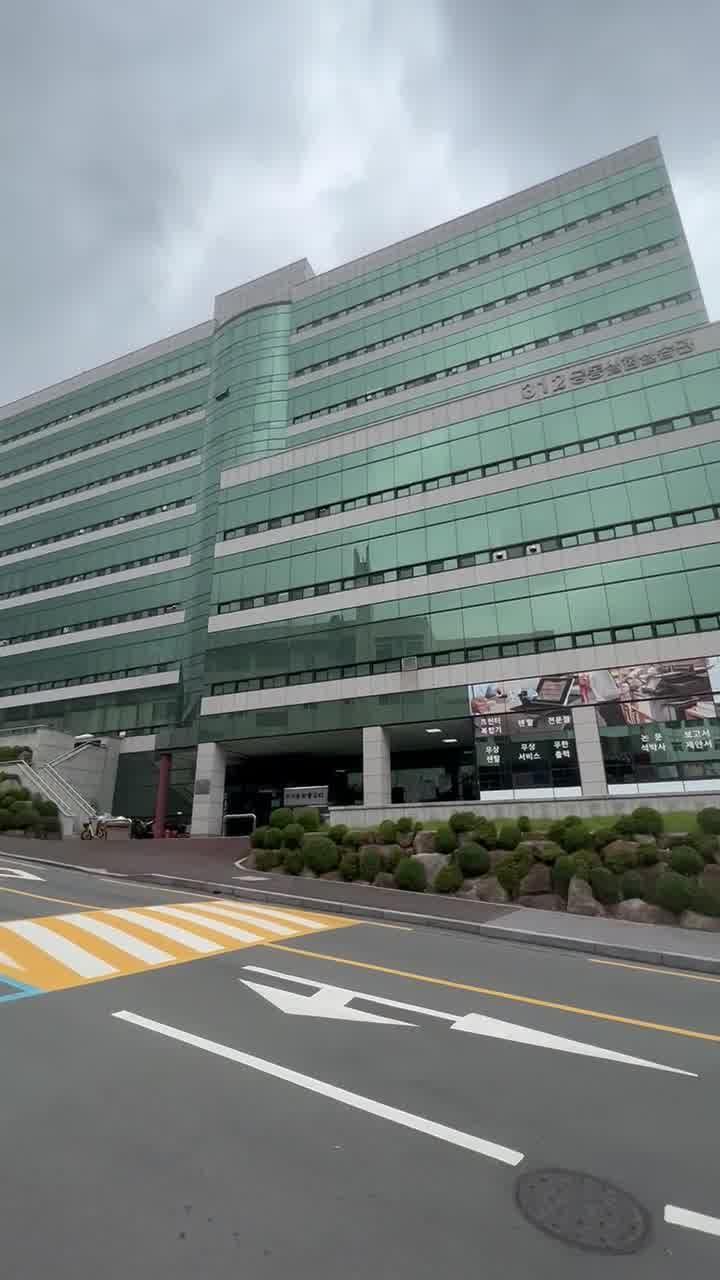building: (68, 192, 720, 692)
